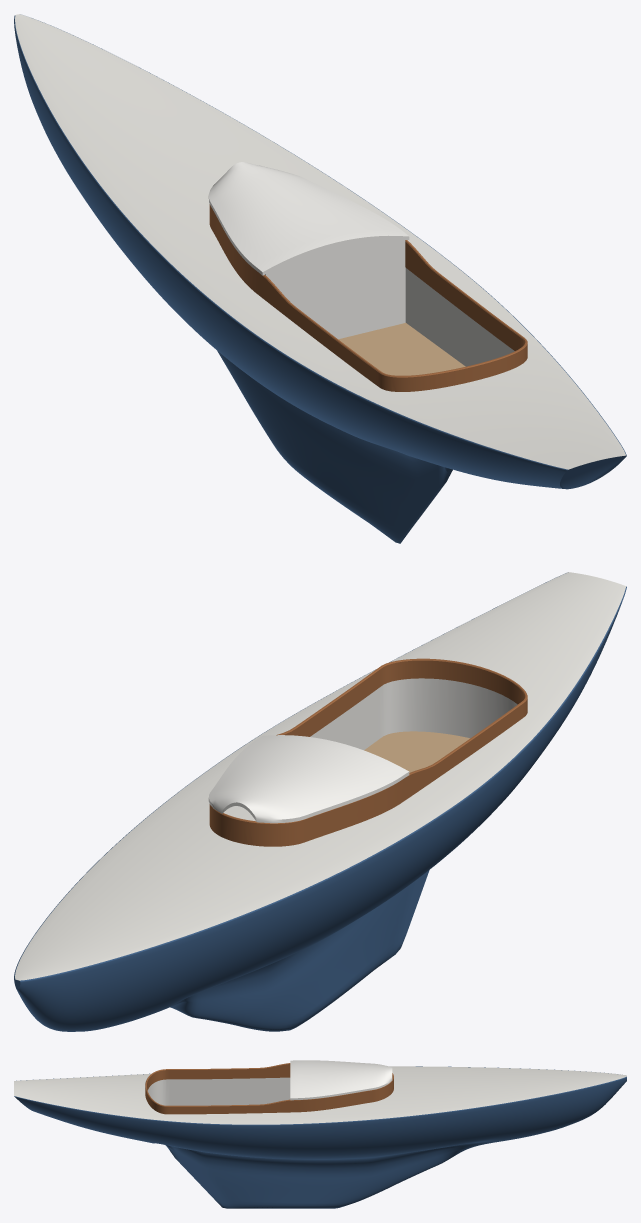
File: dragon.glb
3 renders of one model, top to bottom at view 1: azimuth 30°, elevation 25°; view 2: azimuth 150°, elevation 25°; view 3: azimuth 270°, elevation 25°, orthographic. The views are drawn at different scales.
Parts seen in each view (by area): view 1: dragon; view 2: dragon; view 3: dragon.
Boxes of the visible parts, left/top/right/bottom form: dragon: left=14, top=14, right=626, bottom=543; dragon: left=14, top=572, right=626, bottom=1031; dragon: left=14, top=1060, right=626, bottom=1208.
Size of the model in its own units: 1.96 by 2.24 by 8.87.
